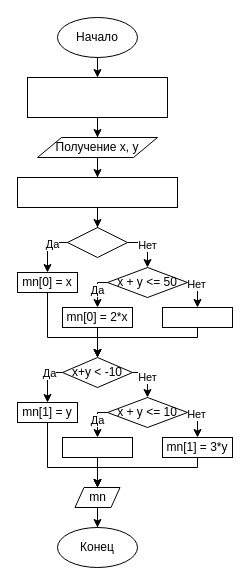
This 250x585 diagram has some shape labels left out. The centre of each missing label's shape, as x and y in pixels:
mn[0] = 3*x: the point at 197,317
mn[1] = 2*y: the point at 97,447
x+y < 25: the point at 97,242
Вещественное число x, Вещественное число y, Массив чисел mn: the point at 97,97
Выделяем память для массива mn размера 2: the point at 97,192
